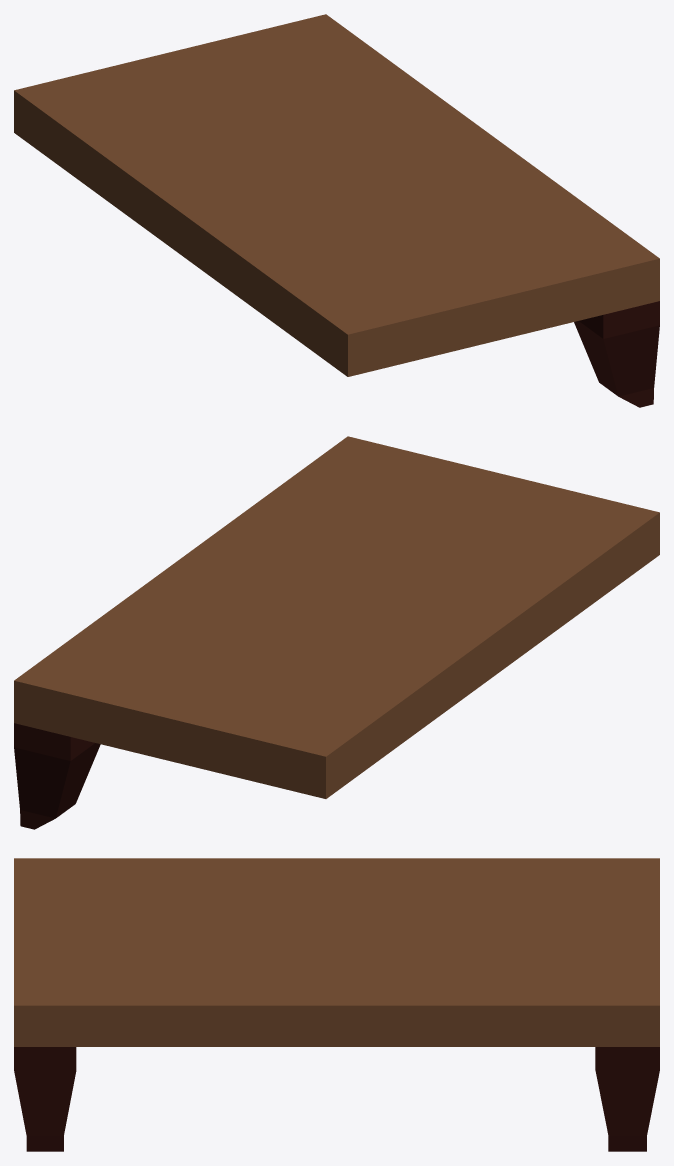
The model's file is Shelf.fbx.
3 views of the same model, one above another, from view 1: azimuth 30°, elevation 25°; view 2: azimuth 150°, elevation 25°; view 3: azimuth 270°, elevation 25° (orthographic). The views are drawn at different scales.
Parts seen in each view (by area): view 1: Cube.006; view 2: Cube.006; view 3: Cube.006.
Part boxes in pixels (left/top/right/bottom): Cube.006: left=14, top=14, right=659, bottom=407; Cube.006: left=14, top=436, right=659, bottom=829; Cube.006: left=14, top=858, right=659, bottom=1151.
Size of the model in its own units: 94.07 by 43.28 by 174.
